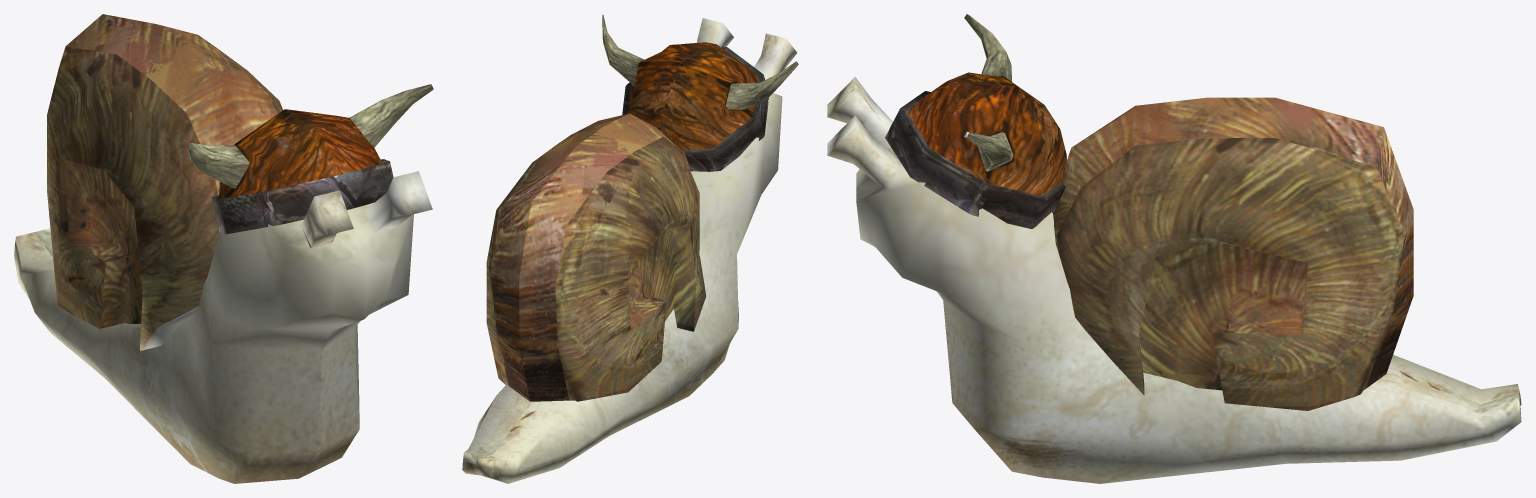
The model's file is character_snail.fbx.
3 views of the same model, side by side, from view 1: azimuth 30°, elevation 25°; view 2: azimuth 150°, elevation 25°; view 3: azimuth 270°, elevation 25° (orthographic). The views are drawn at different scales.
Parts seen in each view (by area): view 1: pCube7; view 2: pCube7; view 3: pCube7.
Boxes of the visible parts, bbox=[...] form: pCube7: bbox=[14, 14, 433, 483]; pCube7: bbox=[462, 14, 798, 483]; pCube7: bbox=[827, 14, 1521, 483].
Size of the model in its own units: 233 by 352 by 575.
